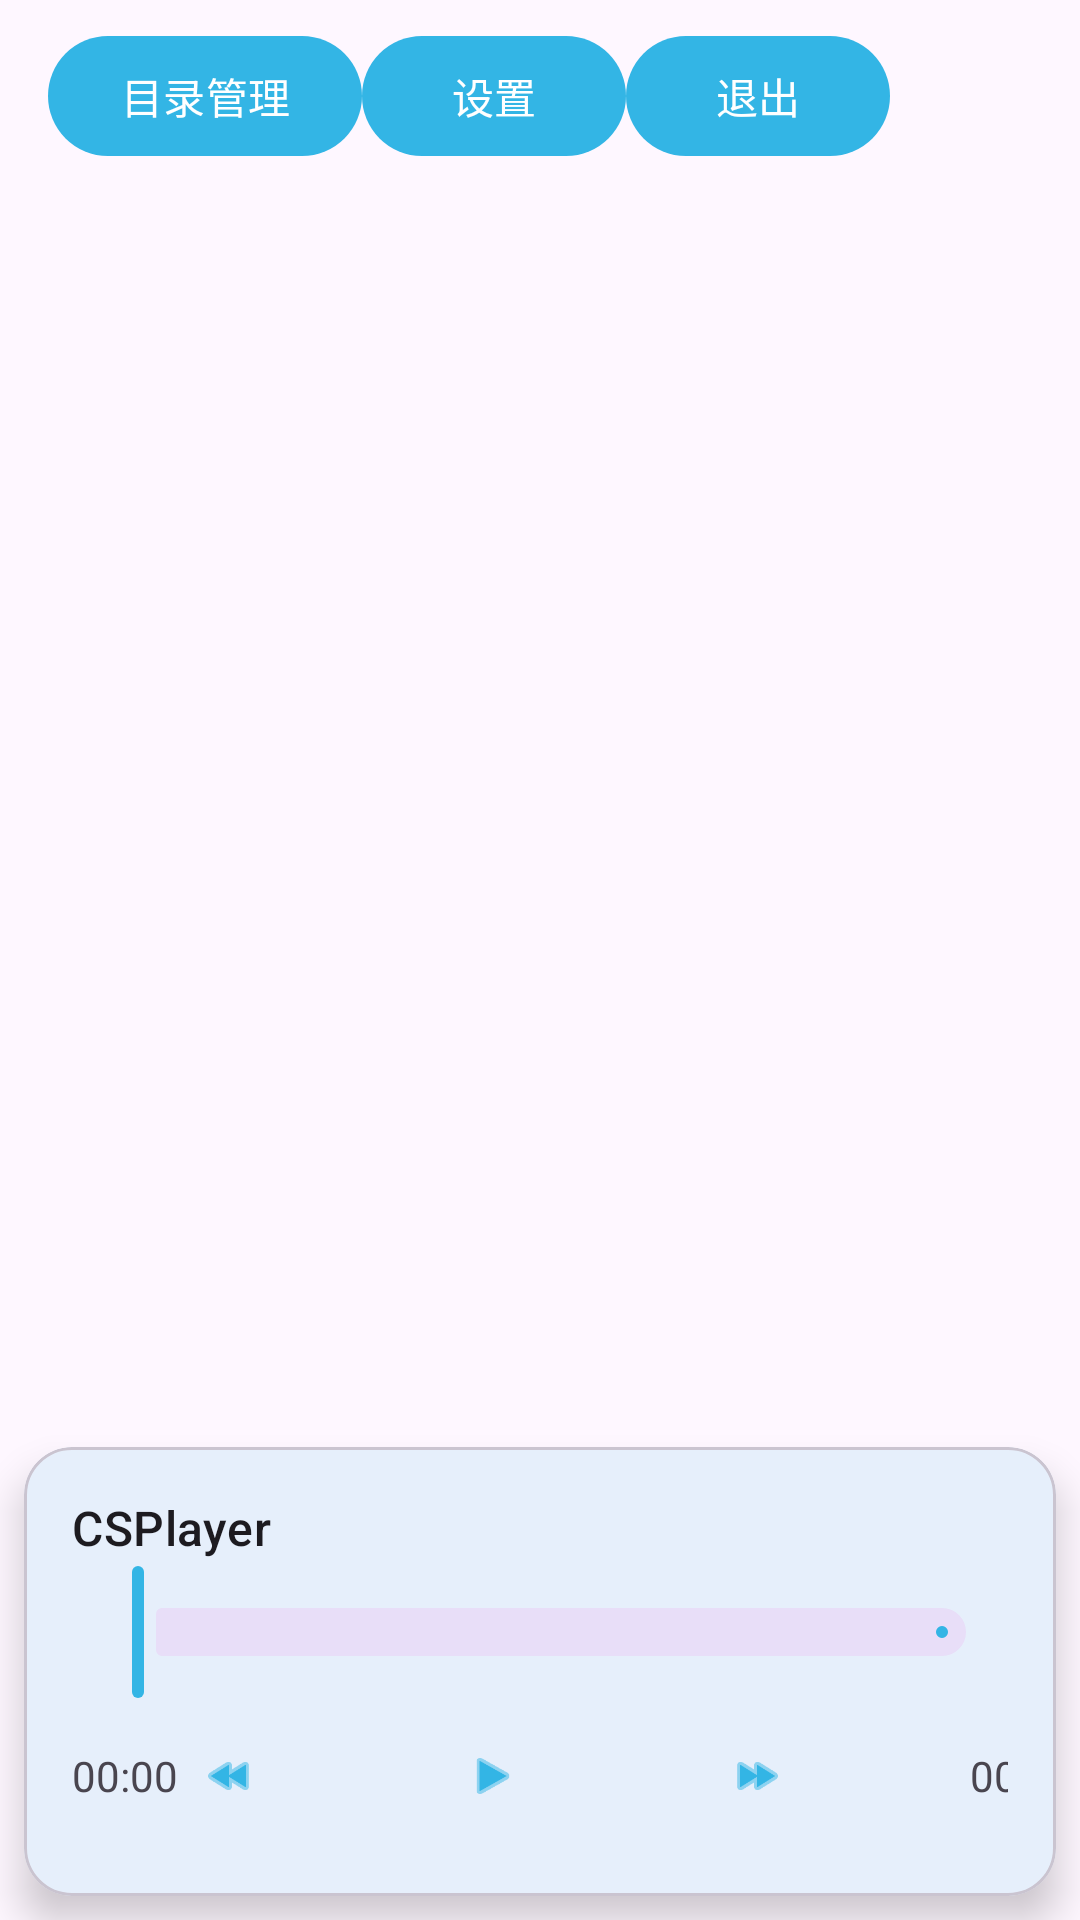

Named icons in this screenshot (1080w x 1920h) and their centers, point (x, y):
play: point (493, 1776)
rew: point (228, 1776)
